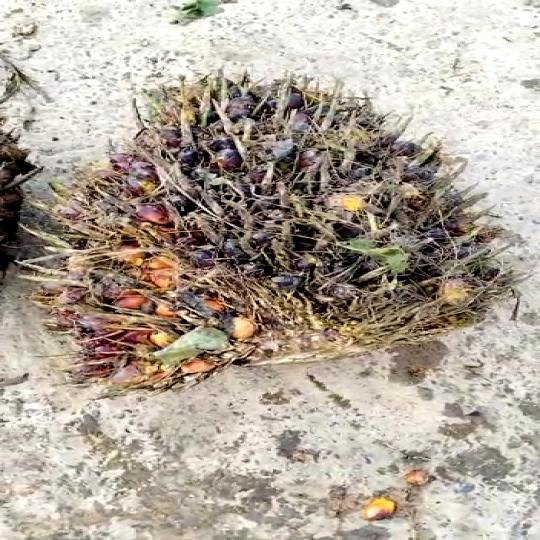kurang masak: (51, 58, 513, 391)
